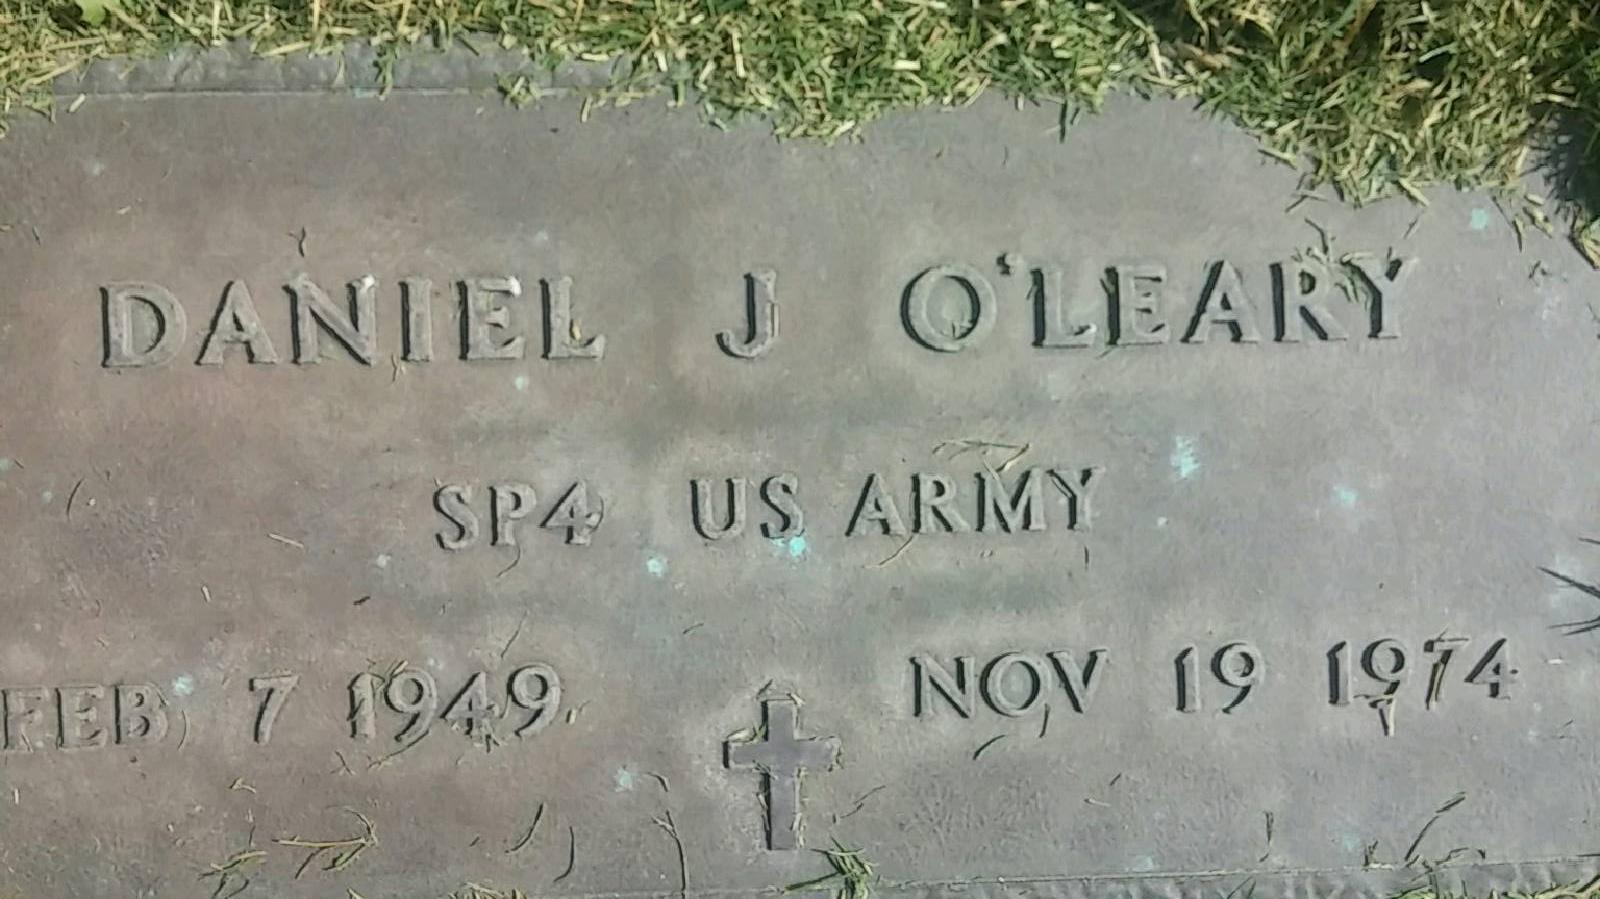flat: (1, 20, 1600, 899)
